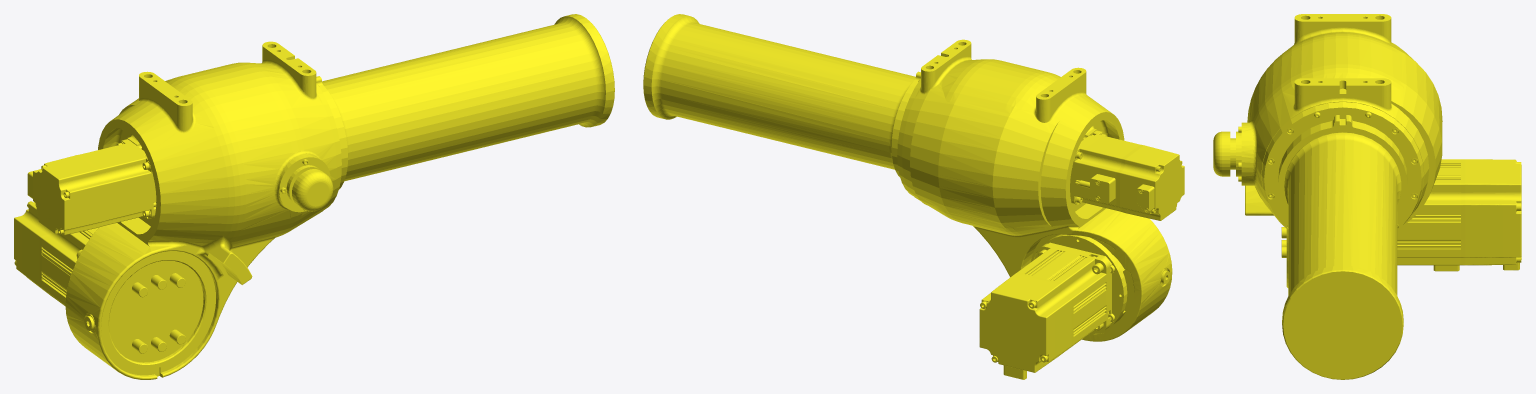
3 views of the same model, side by side, from view 1: azimuth 30°, elevation 25°; view 2: azimuth 150°, elevation 25°; view 3: azimuth 270°, elevation 25° (orthographic). The views are drawn at different scales.
Visible parts, largest first — view 1: Link3; view 2: Link3; view 3: Link3.
Boxes of the visible parts, box(x1,y1,x2,y2) form: Link3: box(14, 14, 614, 379); Link3: box(643, 14, 1184, 379); Link3: box(1213, 14, 1521, 379).
Bounding box in the file's own units: 0.588 × 0.2737 × 0.2745.
